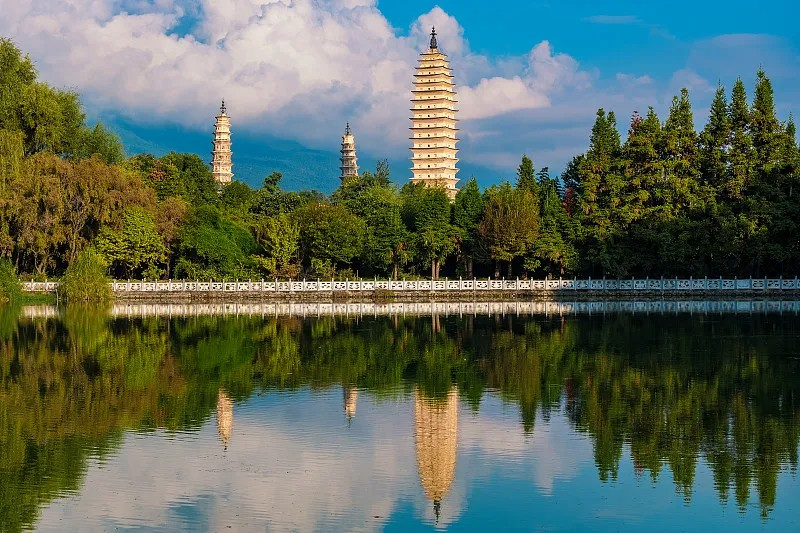ThreePagoda: (408, 26, 459, 201)
